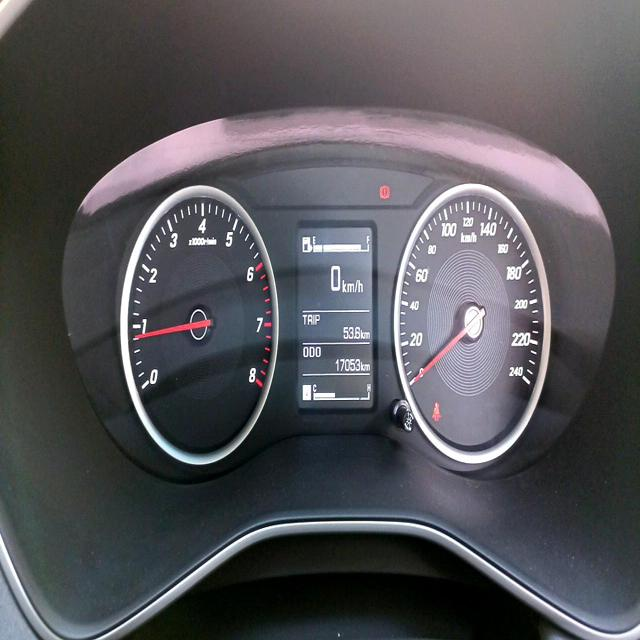odometer: (335, 352, 363, 374)
